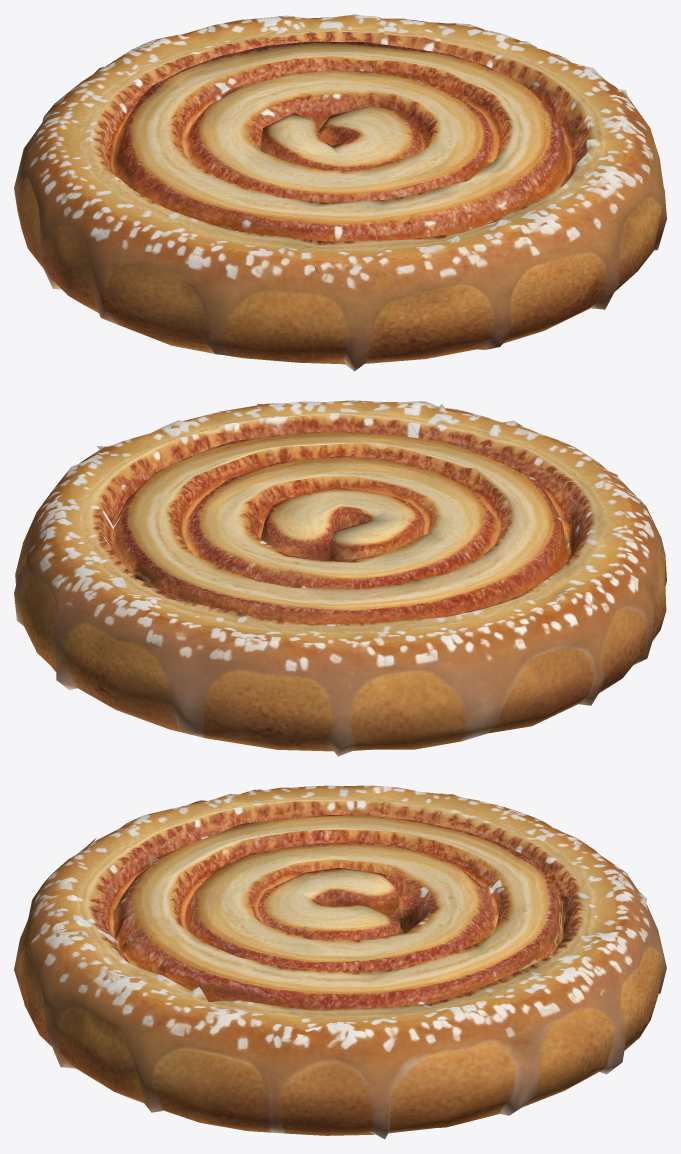
The model's file is cinnamon_roll (1).glb.
The picture shows the model from 3 angles, top to bottom: view 1: azimuth 30°, elevation 25°; view 2: azimuth 150°, elevation 25°; view 3: azimuth 270°, elevation 25°; orthographic projection.
Visible parts, largest first — view 1: Mesh10; view 2: Mesh10; view 3: Mesh10.
Boxes of the visible parts, x1,y1,x2,y2 form: Mesh10: [14, 14, 666, 371]; Mesh10: [14, 400, 666, 756]; Mesh10: [14, 785, 666, 1139].
Bounding box in the file's own units: 1.91 × 0.3771 × 1.92.
1 material, 1 textured.
